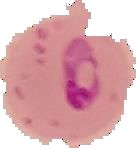parasitized: (58, 33, 101, 117)
